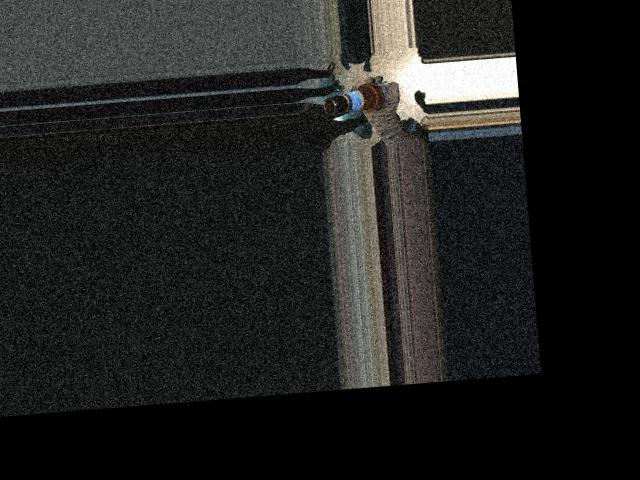beer: (322, 79, 396, 116)
